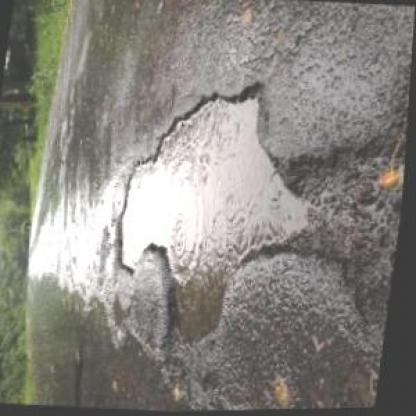pothole: (101, 67, 325, 356)
